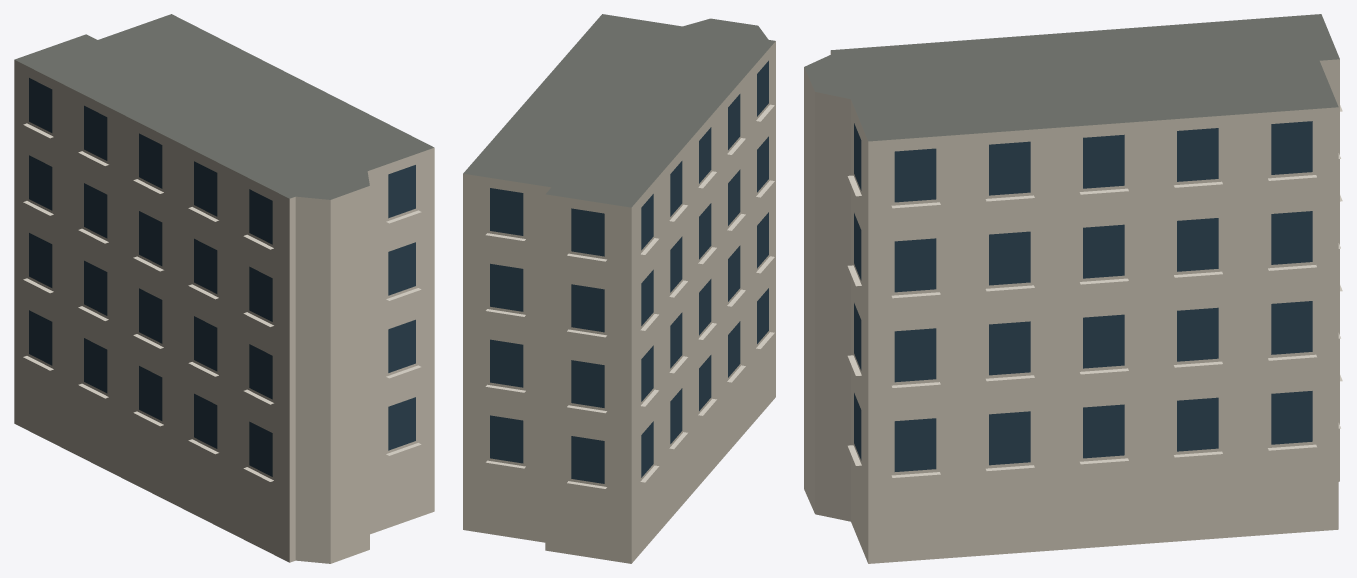
3 renders of one model, left to right at view 1: azimuth 30°, elevation 25°; view 2: azimuth 150°, elevation 25°; view 3: azimuth 270°, elevation 25°, orthographic. The views are drawn at different scales.
Parts seen in each view (by area): view 1: Footprint 0, Inferred window bays, Window sills; view 2: Footprint 0, Inferred window bays, Window sills; view 3: Footprint 0, Inferred window bays, Window sills.
Part boxes in pixels (box(x1,y1,x2,y2)): Footprint 0: box(14, 14, 434, 563); Inferred window bays: box(29, 78, 415, 476); Window sills: box(23, 123, 421, 481); Footprint 0: box(463, 14, 775, 563); Inferred window bays: box(490, 60, 768, 483); Window sills: box(485, 104, 774, 488); Footprint 0: box(804, 14, 1339, 563); Inferred window bays: box(854, 121, 1312, 471); Window sills: box(847, 105, 1342, 477).
Bounding box in the file's own units: 9.07 × 13.68 × 15.8.
